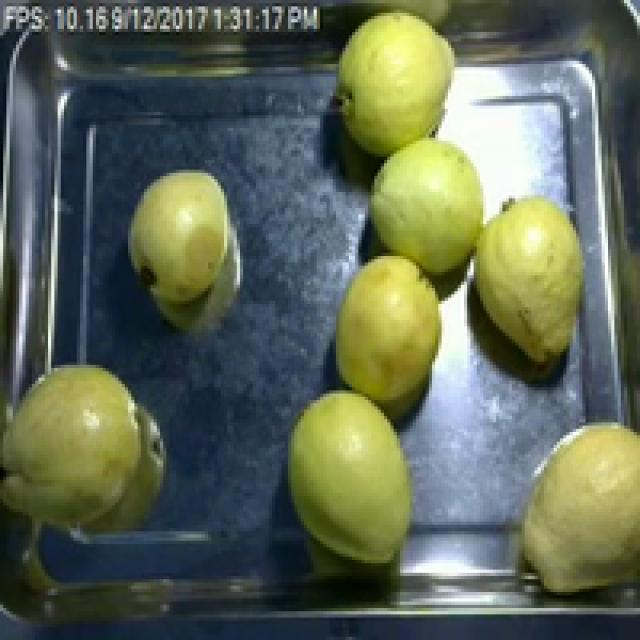Fruit: (0, 352, 176, 557), (458, 176, 604, 387), (275, 378, 426, 572), (505, 403, 640, 608), (320, 240, 458, 435), (333, 3, 467, 170), (365, 128, 499, 291), (121, 163, 246, 314)
